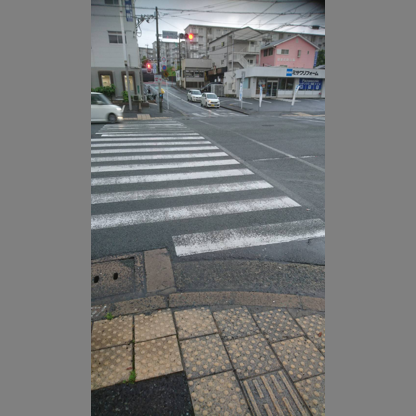brailleblock: (191, 311, 248, 413), (244, 319, 292, 416), (283, 319, 324, 416), (134, 311, 185, 376), (90, 313, 133, 381)
crosswalk: (92, 176, 266, 256), (92, 159, 237, 212), (91, 134, 216, 177)
signal: (144, 62, 152, 72)
